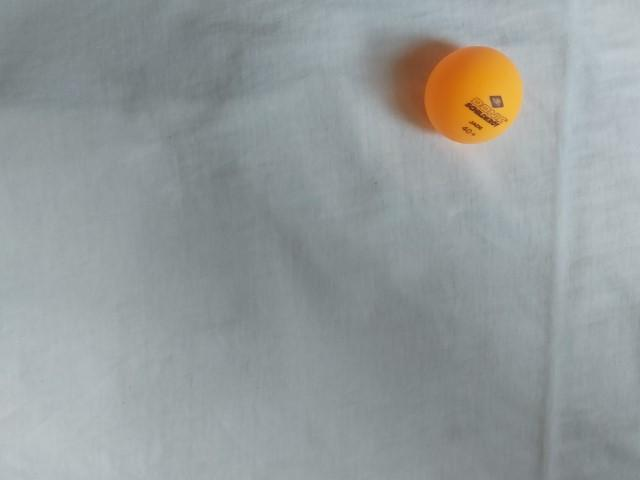oball: (417, 42, 534, 151)
